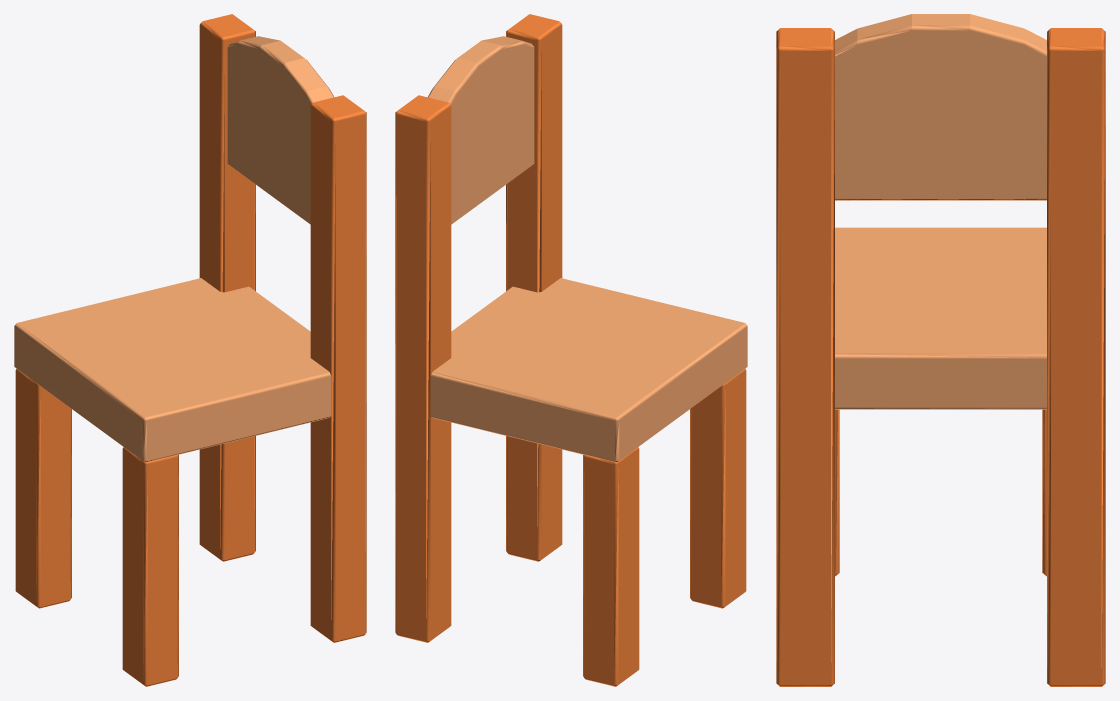
The model's file is kursi1.obj.
The picture shows the model from 3 angles, left to right: view 1: azimuth 30°, elevation 25°; view 2: azimuth 150°, elevation 25°; view 3: azimuth 270°, elevation 25°; orthographic projection. The views are drawn at different scales.
Visible parts, largest first — view 1: Chair.002_Cube.079; view 2: Chair.002_Cube.079; view 3: Chair.002_Cube.079.
Part boxes in pixels (bbox=[...]): Chair.002_Cube.079: bbox=[14, 14, 366, 686]; Chair.002_Cube.079: bbox=[395, 14, 747, 686]; Chair.002_Cube.079: bbox=[776, 14, 1105, 686].
Bounding box in the file's own units: 0.8033 × 1.86 × 0.8433.
